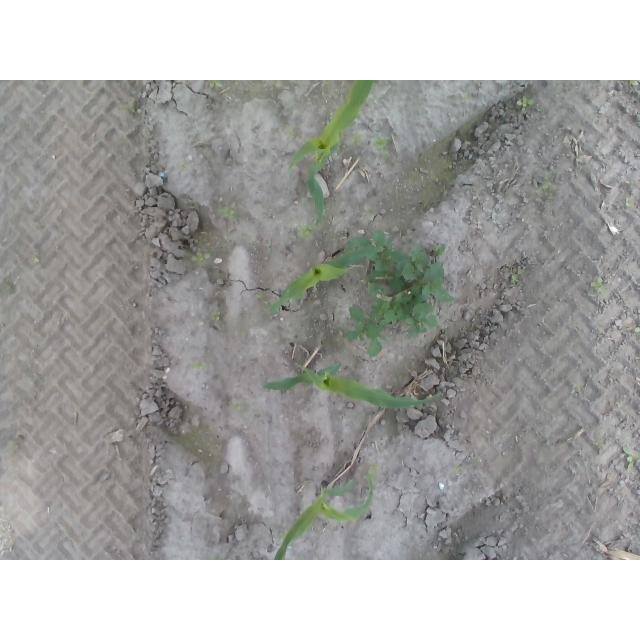Maize: (287, 82, 374, 227), (259, 360, 442, 412), (273, 468, 376, 560), (267, 251, 370, 318)
Weeds: (343, 228, 453, 357), (376, 134, 393, 159), (623, 445, 640, 470), (126, 97, 143, 116), (295, 224, 314, 240), (516, 96, 537, 109), (592, 278, 609, 294), (218, 206, 238, 218), (540, 176, 552, 193), (191, 254, 209, 263), (208, 80, 225, 89), (191, 431, 202, 442), (194, 359, 206, 369), (211, 311, 221, 322), (625, 198, 633, 209), (512, 274, 519, 285), (629, 80, 640, 86), (32, 257, 41, 264), (634, 325, 640, 335)
